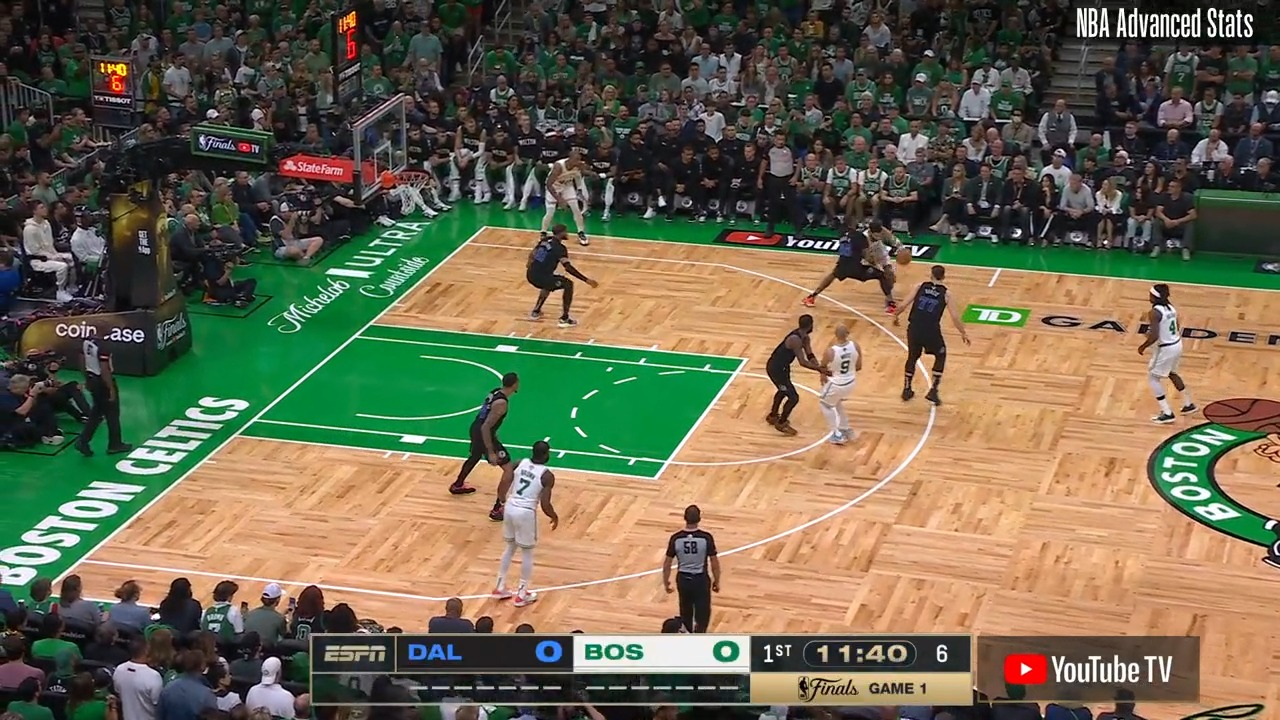basketball: (894, 246, 916, 268)
